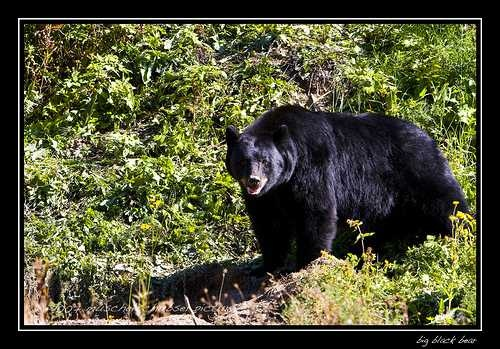bear: (212, 97, 340, 225)
